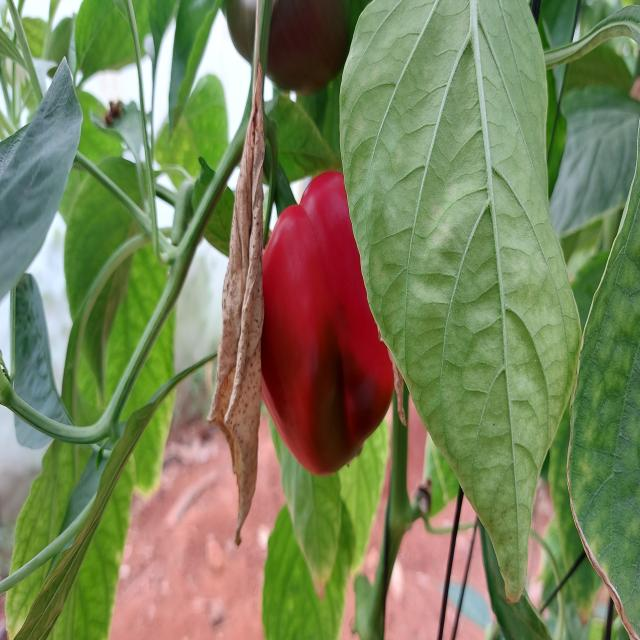Red-Ready-to-Harvest: (250, 177, 407, 469)
